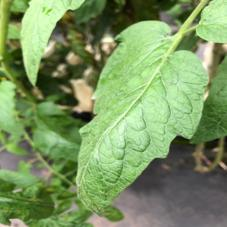Healthy: (77, 19, 211, 224)
